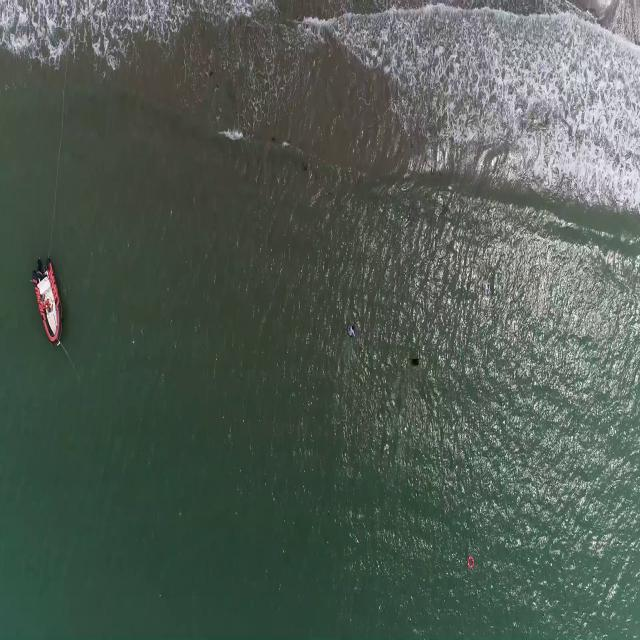boat: (32, 258, 62, 346)
life_buoy: (467, 554, 475, 569)
person: (348, 316, 361, 338), (410, 350, 420, 369)
